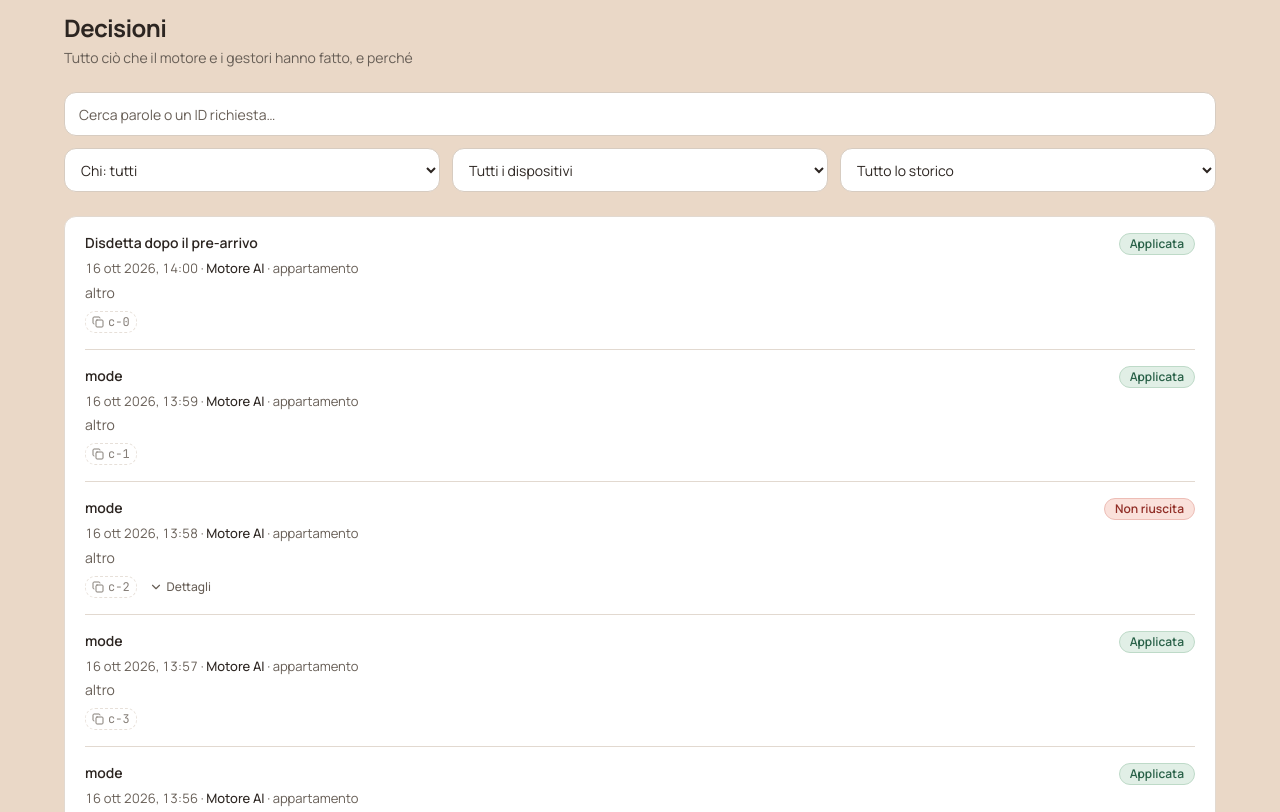
Decisioni: ricerca in tutto lo storico › ID richiesta incollato: una sola richiesta con il filtro esatto, risultato da tutto lo storico
The width and height of the screenshot is (1280, 812).
Type "3f2a9c1e-7b4d-4e8a-9c0f-1a2b3c4d5e6f" into the search field with test id "decisions-search-input" at (640, 114), box top-left (64, 92), bottom-right (1216, 136)
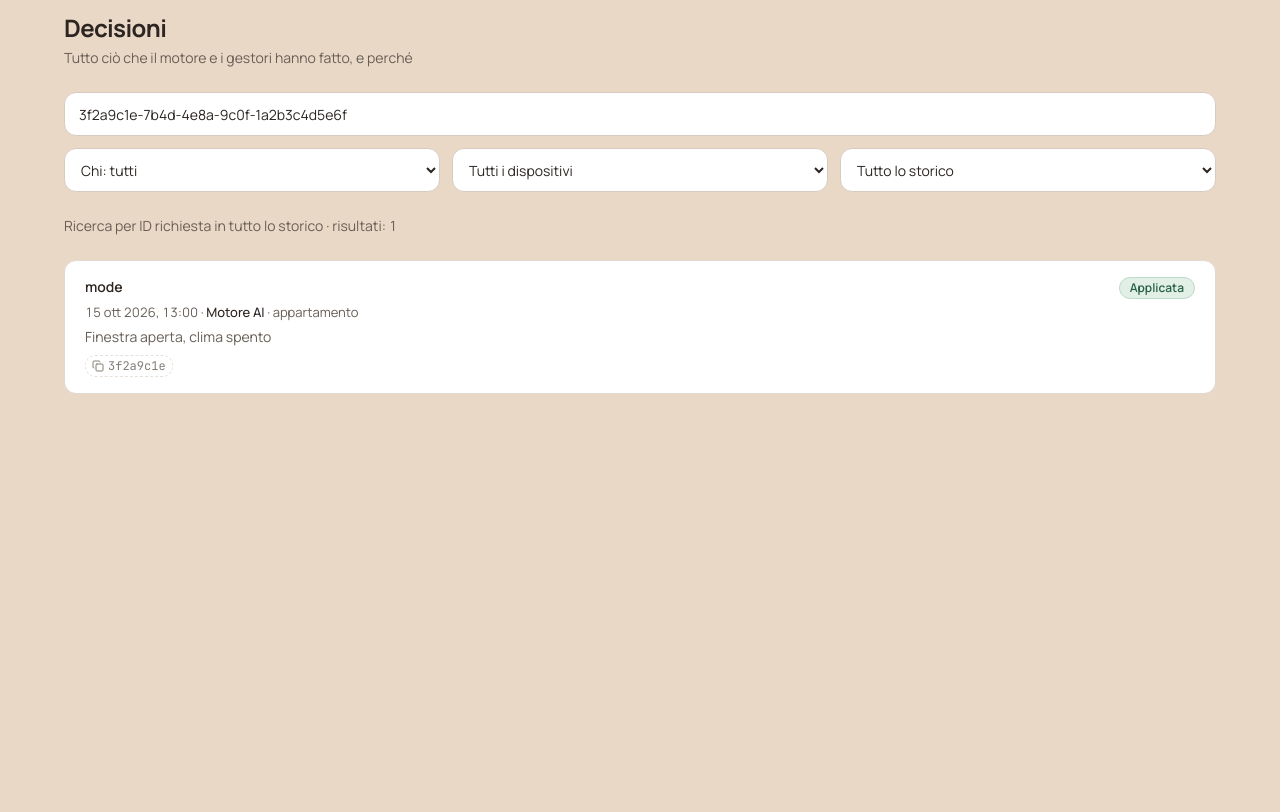
Expected: the list item with test id "decision-row-d-1500" is shown, top-left (85, 261), bottom-right (1195, 392)
